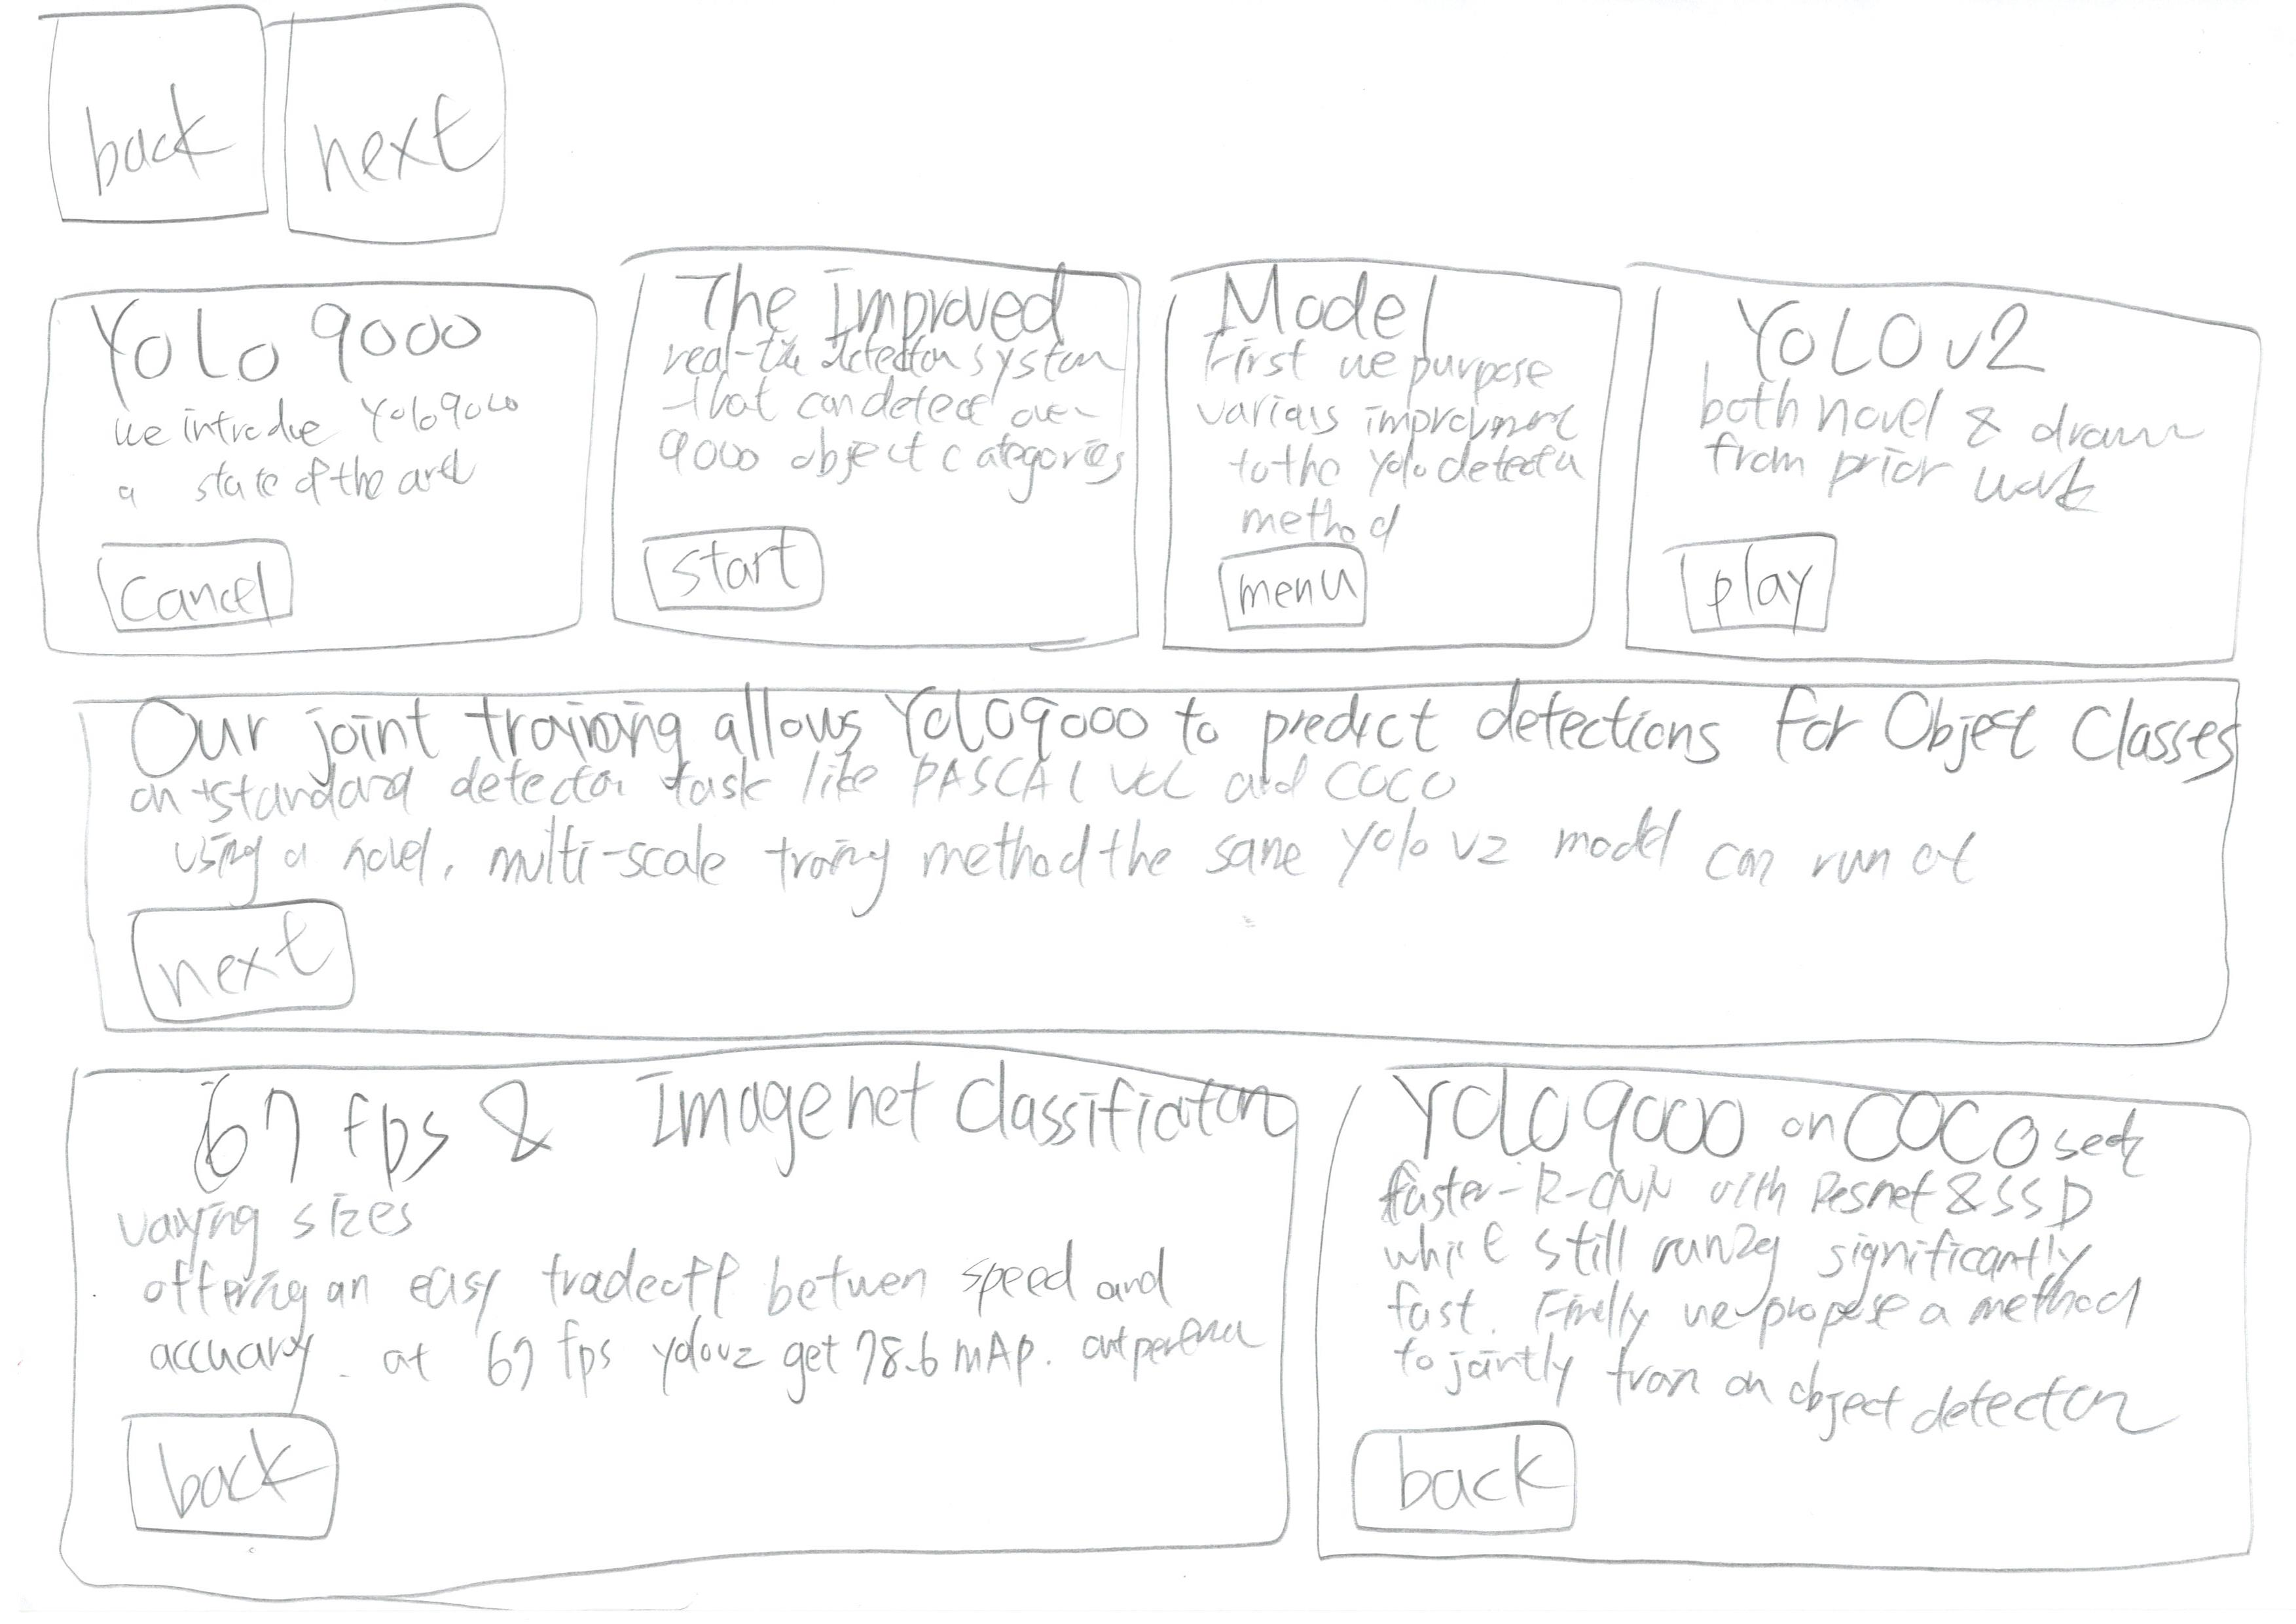back: (30, 0, 295, 244), (91, 1373, 364, 1570), (1310, 1413, 1589, 1555)
cancel: (67, 527, 325, 640)
double: (26, 1032, 1308, 1589), (1290, 1025, 2296, 1619)
menu: (1208, 536, 1403, 663)
next: (248, 4, 534, 255), (100, 884, 390, 1026)
play: (1642, 503, 1890, 670)
quadruple: (1596, 218, 2296, 664), (12, 236, 603, 680), (578, 236, 1167, 680), (1092, 221, 1681, 666)
row: (0, 1009, 2296, 1624), (0, 236, 2296, 724), (0, 650, 2296, 1072), (0, 0, 2296, 262)
single: (21, 668, 2291, 1077)
small-title: (116, 691, 2206, 770), (172, 1056, 1271, 1183), (1403, 1072, 2159, 1178), (1725, 290, 2053, 410), (98, 297, 494, 383), (686, 272, 1065, 344), (1180, 271, 1457, 344)
start: (624, 499, 867, 642)
text: (123, 770, 2076, 903), (1378, 1155, 2194, 1441), (121, 1195, 1261, 1394), (652, 329, 1132, 506), (1188, 337, 1582, 533), (90, 381, 547, 522), (1714, 380, 2208, 510)
